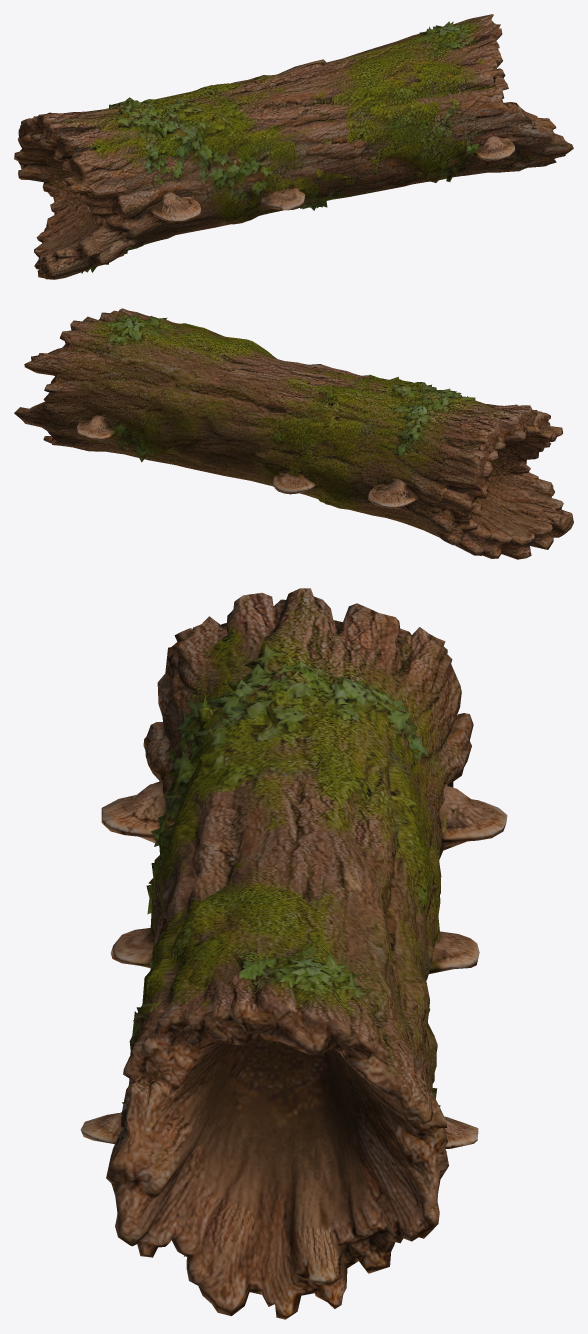
3 renders of one model, top to bottom at view 1: azimuth 30°, elevation 25°; view 2: azimuth 150°, elevation 25°; view 3: azimuth 270°, elevation 25°, orthographic. The views are drawn at different scales.
Visible parts, largest first — view 1: Mega fallen log; view 2: Mega fallen log; view 3: Mega fallen log.
Boxes of the visible parts, x1,y1,x2,y2 form: Mega fallen log: (14,14,573,279); Mega fallen log: (14,308,573,559); Mega fallen log: (80,588,507,1319).
Bounding box in the file's own units: 44 × 11.9 × 16.23.
Materials: 1 (1 with a texture image).
